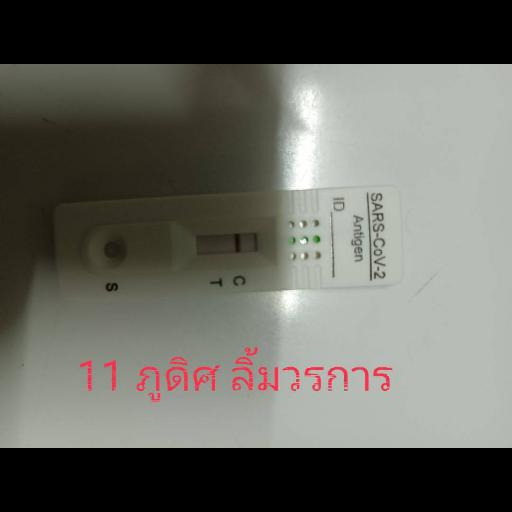Neg: (52, 185, 401, 305)
